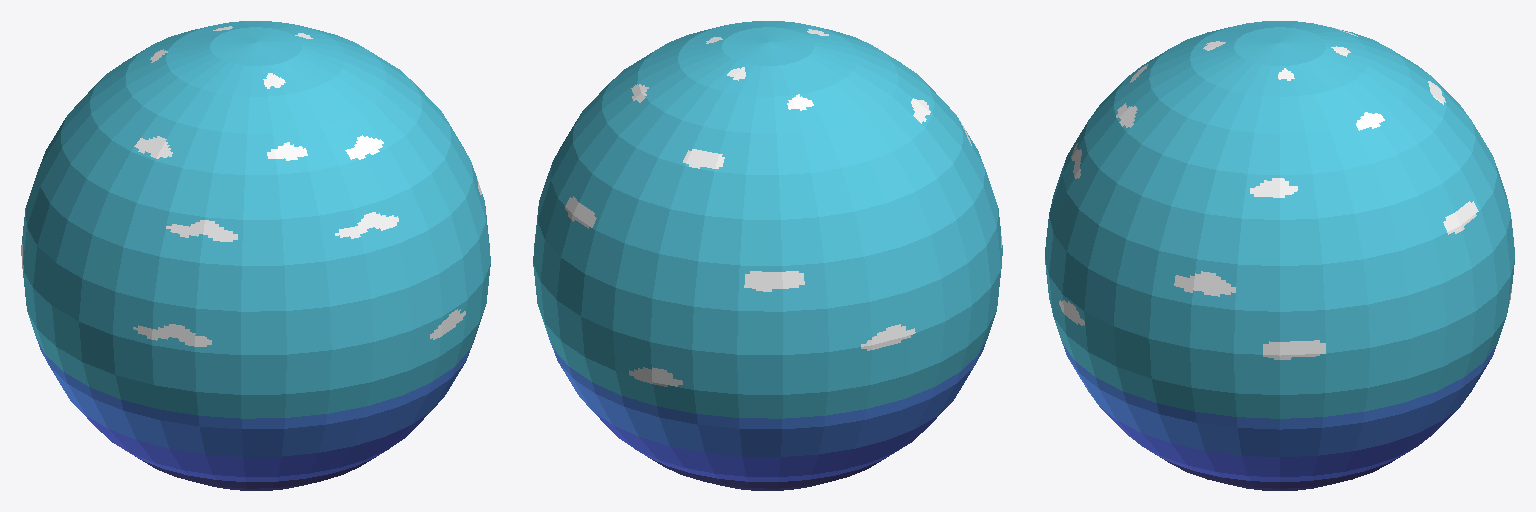
3 renders of one model, left to right at view 1: azimuth 30°, elevation 25°; view 2: azimuth 150°, elevation 25°; view 3: azimuth 270°, elevation 25°, orthographic.
Visible parts, largest first — view 1: 球; view 2: 球; view 3: 球.
Part boxes in pixels (left/top/right/bottom): 球: left=21, top=21, right=490, bottom=490; 球: left=533, top=21, right=1002, bottom=490; 球: left=1045, top=21, right=1514, bottom=490.
Size of the model in its own units: 2 by 2 by 2.
Materials: 1 (1 with a texture image).